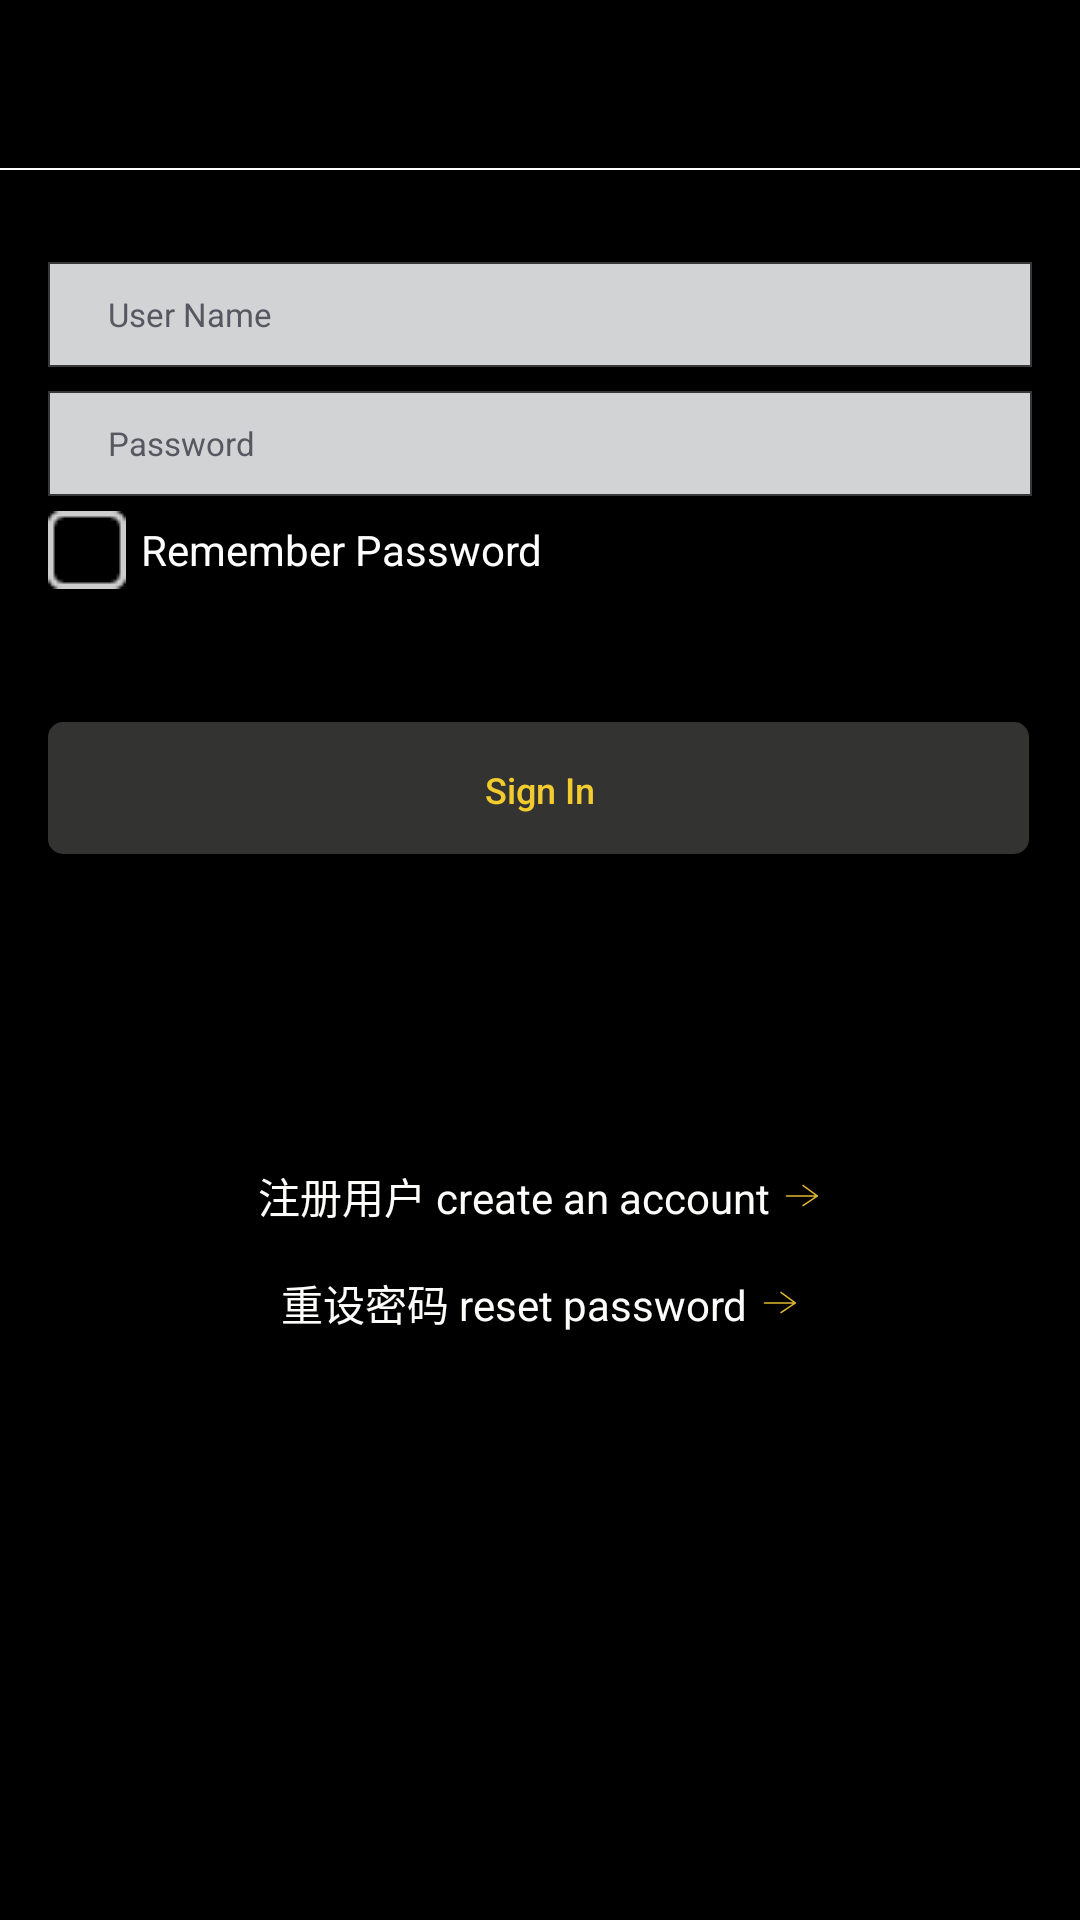

Where to tap for icons on this 1080x1920 app screen, as [x,y]:
check box: [87,550]
